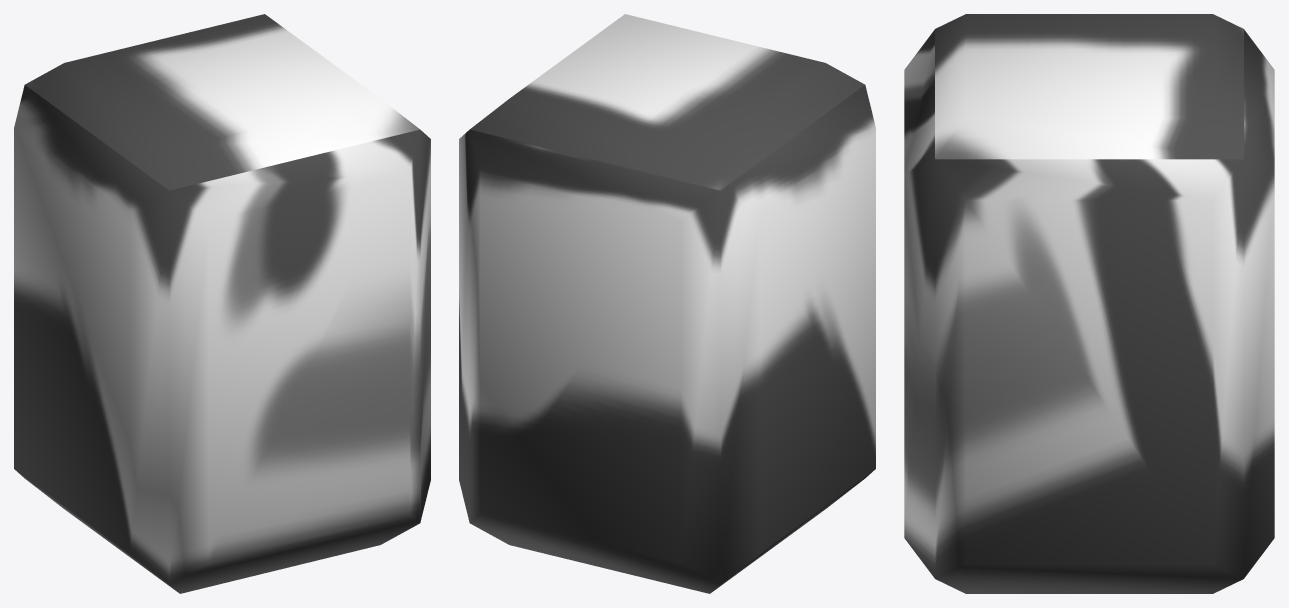
The model's file is stony.dae.
3 renders of one model, left to right at view 1: azimuth 30°, elevation 25°; view 2: azimuth 150°, elevation 25°; view 3: azimuth 270°, elevation 25°, orthographic. The views are drawn at different scales.
Visible parts, largest first — view 1: Cube1_default; view 2: Cube1_default; view 3: Cube1_default.
Boxes of the visible parts, x1,y1,x2,y2 form: Cube1_default: (14,14,430,593); Cube1_default: (459,14,875,593); Cube1_default: (904,14,1274,593).
Bounding box in the file's own units: 2.4 × 2.4 × 3.4.
1 material, 1 textured.
